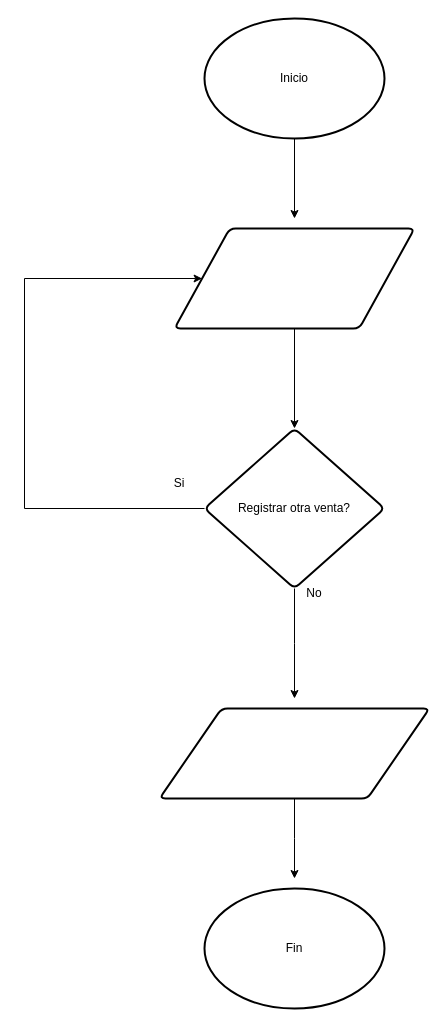
Some shapes in this 448 by 1026 pixel diagram are drawn without their labels. Each missing label, with the centre of its shape:
Generar resumen final: the point at 294,753
Ingresar una nueva venta: the point at 294,278
